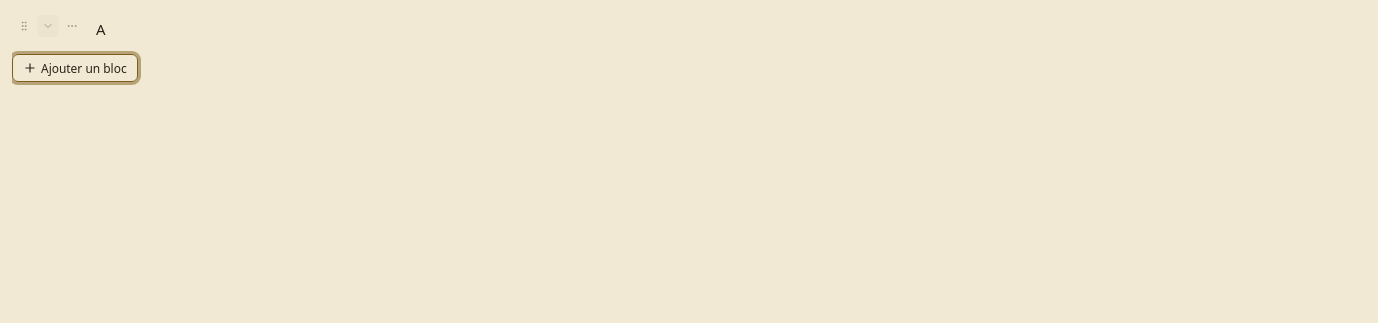
Test: "Add a block" inserts a text block at the end
The width and height of the screenshot is (1378, 323).
Expected: the field named "Bloc de texte 1" is shown, [96, 19, 106, 39]
Press Enter in the button "Ajouter un bloc", box [12, 54, 138, 82]
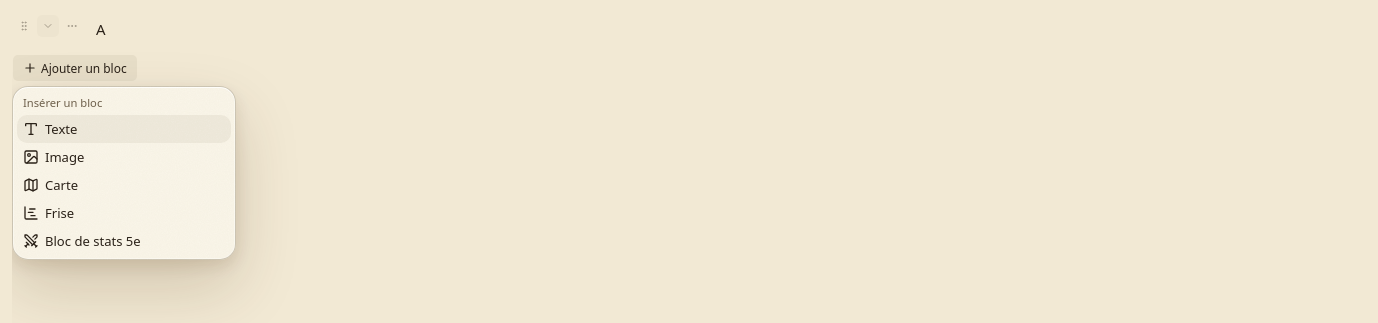
Click the menu item "Texte" at x=124, y=129, box [17, 115, 231, 143]
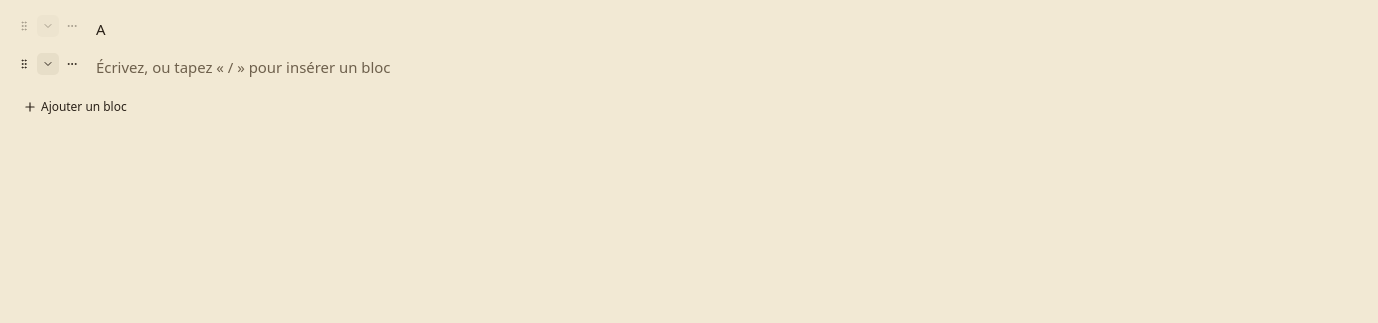
Expected: the field named "Bloc de texte 2" is shown, [88, 50, 1377, 85]
